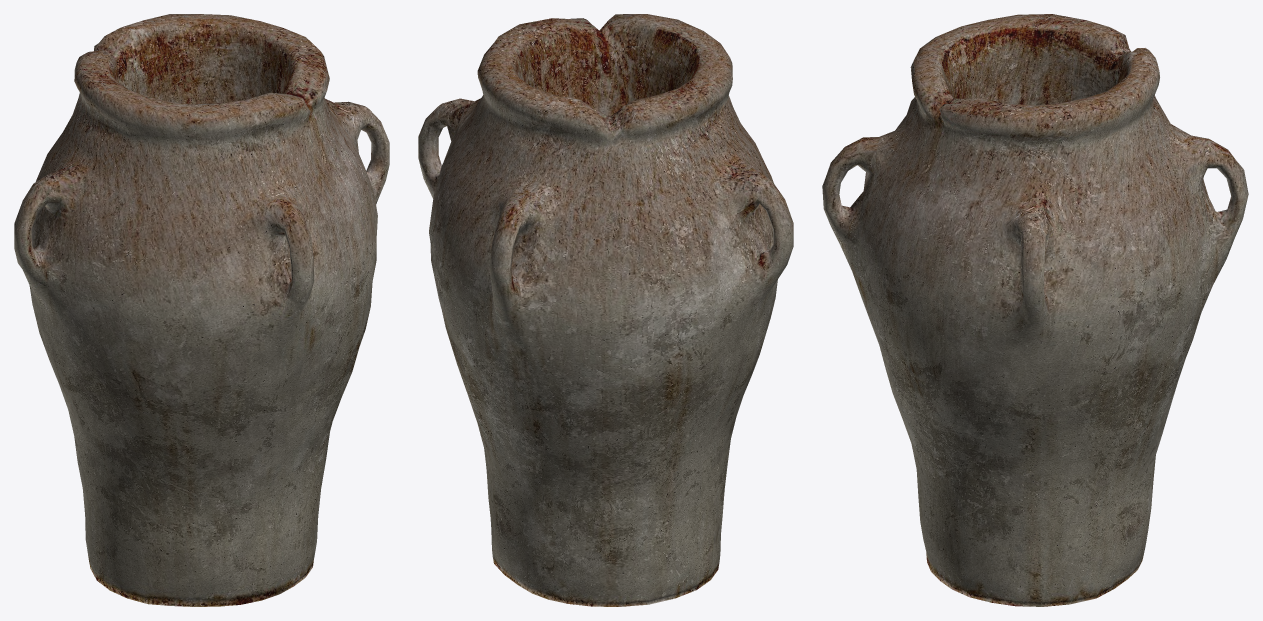
File: ancient_clay_pot.glb
The picture shows the model from 3 angles, left to right: view 1: azimuth 30°, elevation 25°; view 2: azimuth 150°, elevation 25°; view 3: azimuth 270°, elevation 25°; orthographic projection.
Parts seen in each view (by area): view 1: g; view 2: g; view 3: g.
Part boxes in pixels (bbox=[...]): g: bbox=[14, 14, 389, 606]; g: bbox=[418, 14, 793, 606]; g: bbox=[822, 14, 1248, 606].
Bounding box in the file's own units: 1.55 × 2 × 1.56.
1 material, 1 textured.
